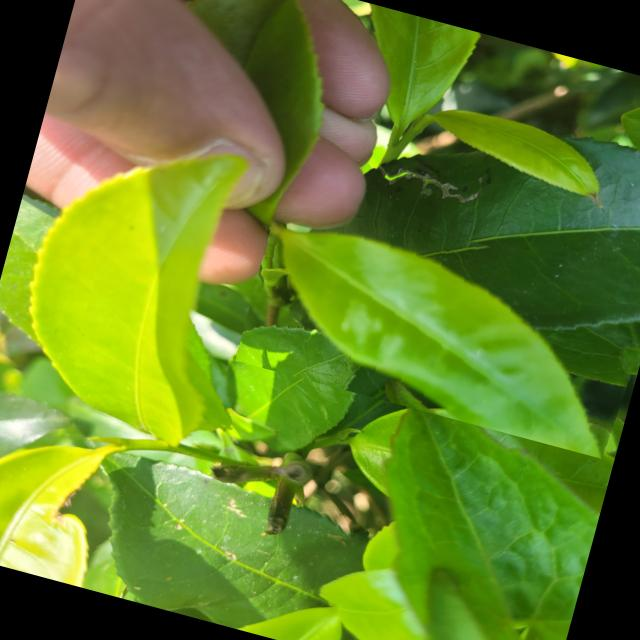Catagory A(1-2 days): (235, 182, 640, 461)
